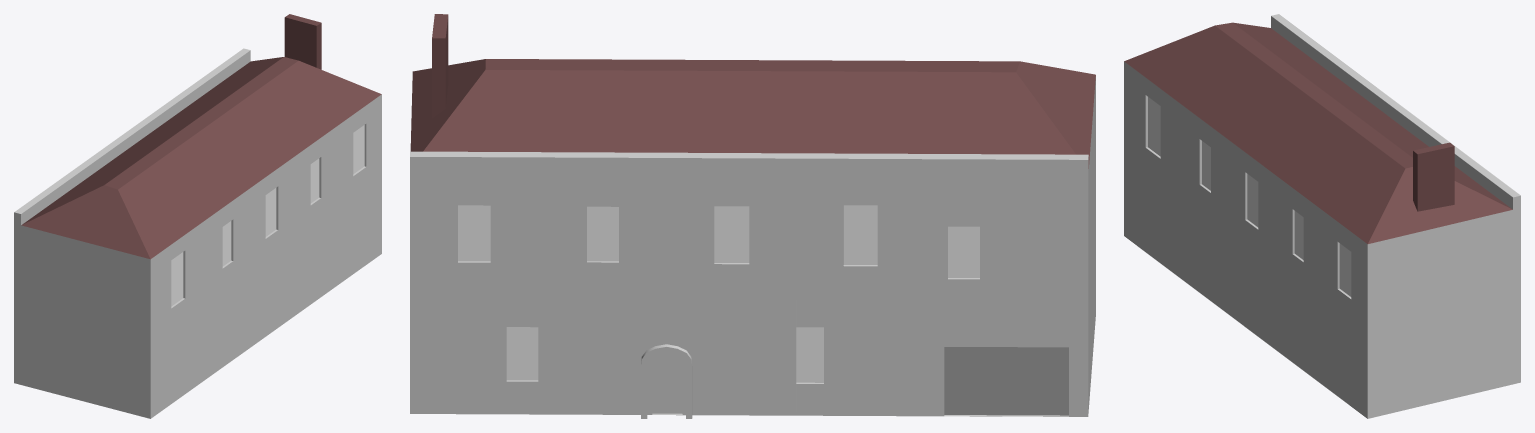
Rendered from RF_House_side 1.fbx.
The picture shows the model from 3 angles, left to right: view 1: azimuth 30°, elevation 25°; view 2: azimuth 150°, elevation 25°; view 3: azimuth 270°, elevation 25°; orthographic projection. The views are drawn at different scales.
Parts seen in each view (by area): view 1: pCube6Shape; view 2: pCube6Shape; view 3: pCube6Shape.
Boxes of the visible parts, x1,y1,x2,y2 form: pCube6Shape: (14, 14, 381, 418); pCube6Shape: (410, 14, 1095, 418); pCube6Shape: (1124, 14, 1520, 418).
Size of the model in its own units: 51.93 by 27.28 by 39.96.
